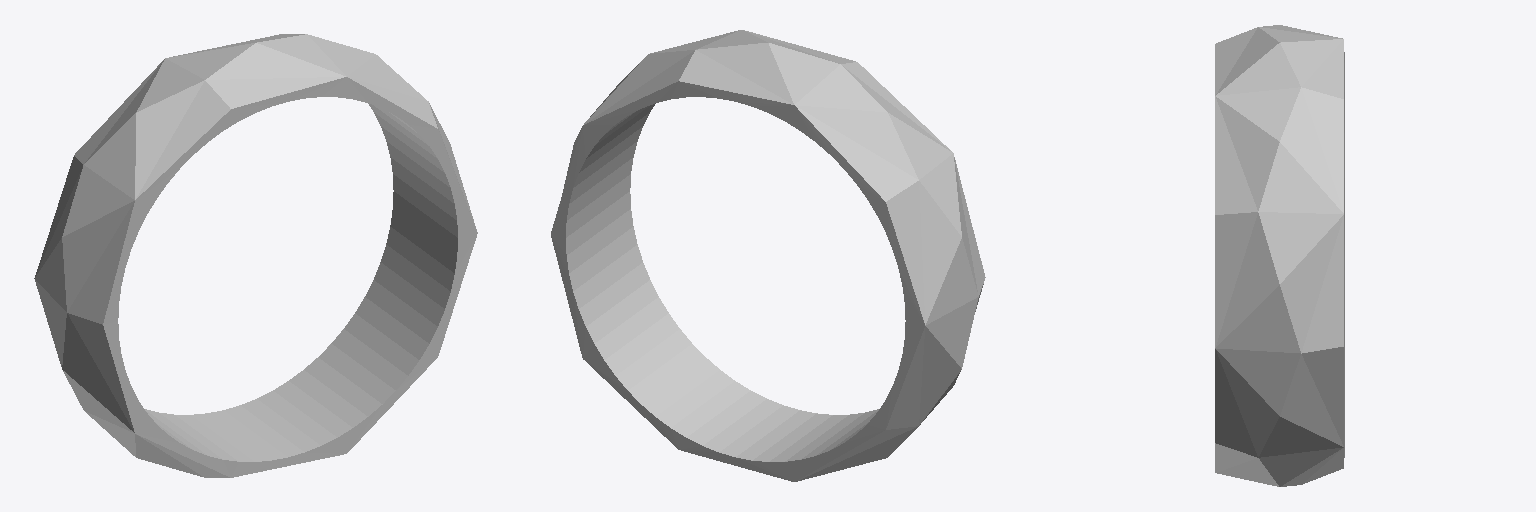
File: Lowpolyring.obj
3 renders of one model, left to right at view 1: azimuth 30°, elevation 25°; view 2: azimuth 150°, elevation 25°; view 3: azimuth 270°, elevation 25°, orthographic.
Parts seen in each view (by area): view 1: <STL_BINARY>; view 2: <STL_BINARY>; view 3: <STL_BINARY>.
Part boxes in pixels (bbox=[...]): <STL_BINARY>: bbox=[34, 34, 477, 477]; <STL_BINARY>: bbox=[551, 30, 985, 481]; <STL_BINARY>: bbox=[1215, 25, 1344, 486].
Size of the model in its own units: 0.0243 by 0.0248 by 0.0068.